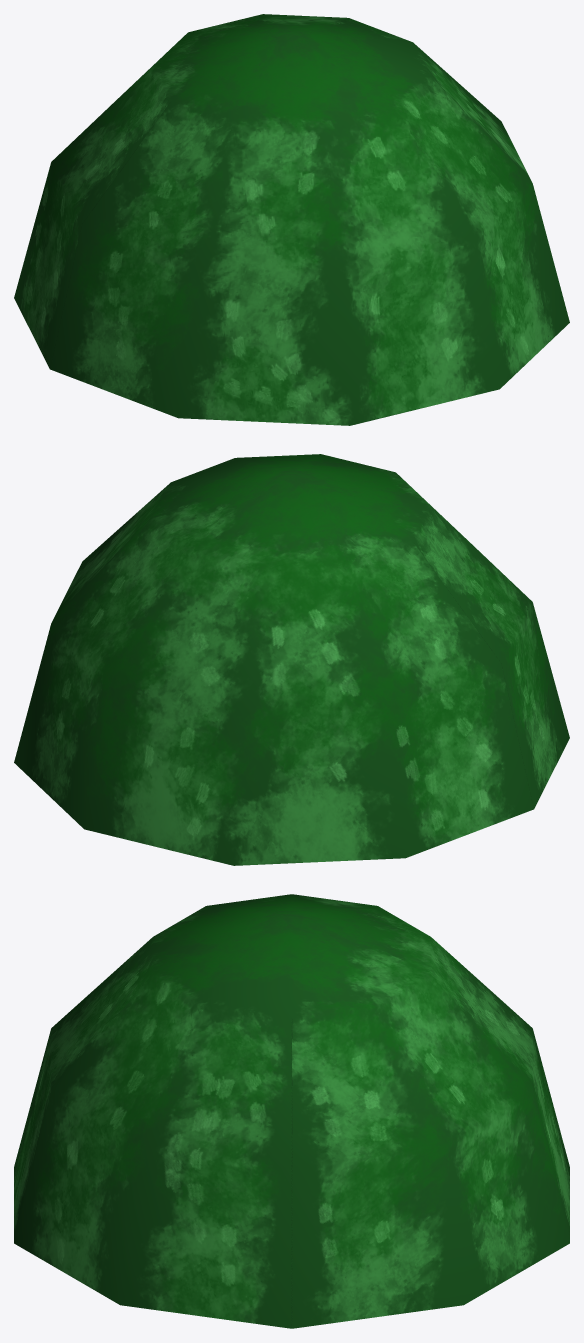
The model's file is FruitNinjaPiTFBX.fbx.
3 views of the same model, one above another, from view 1: azimuth 30°, elevation 25°; view 2: azimuth 150°, elevation 25°; view 3: azimuth 270°, elevation 25° (orthographic). The views are drawn at different scales.
Visible parts, largest first — view 1: pSphere1; view 2: pSphere1; view 3: pSphere1.
Boxes of the visible parts, x1=… form: pSphere1: x1=14, y1=14, x2=569, y2=425; pSphere1: x1=14, y1=454, x2=569, y2=865; pSphere1: x1=14, y1=894, x2=569, y2=1328.
Size of the model in its own units: 2.3 by 1.25 by 2.19.
